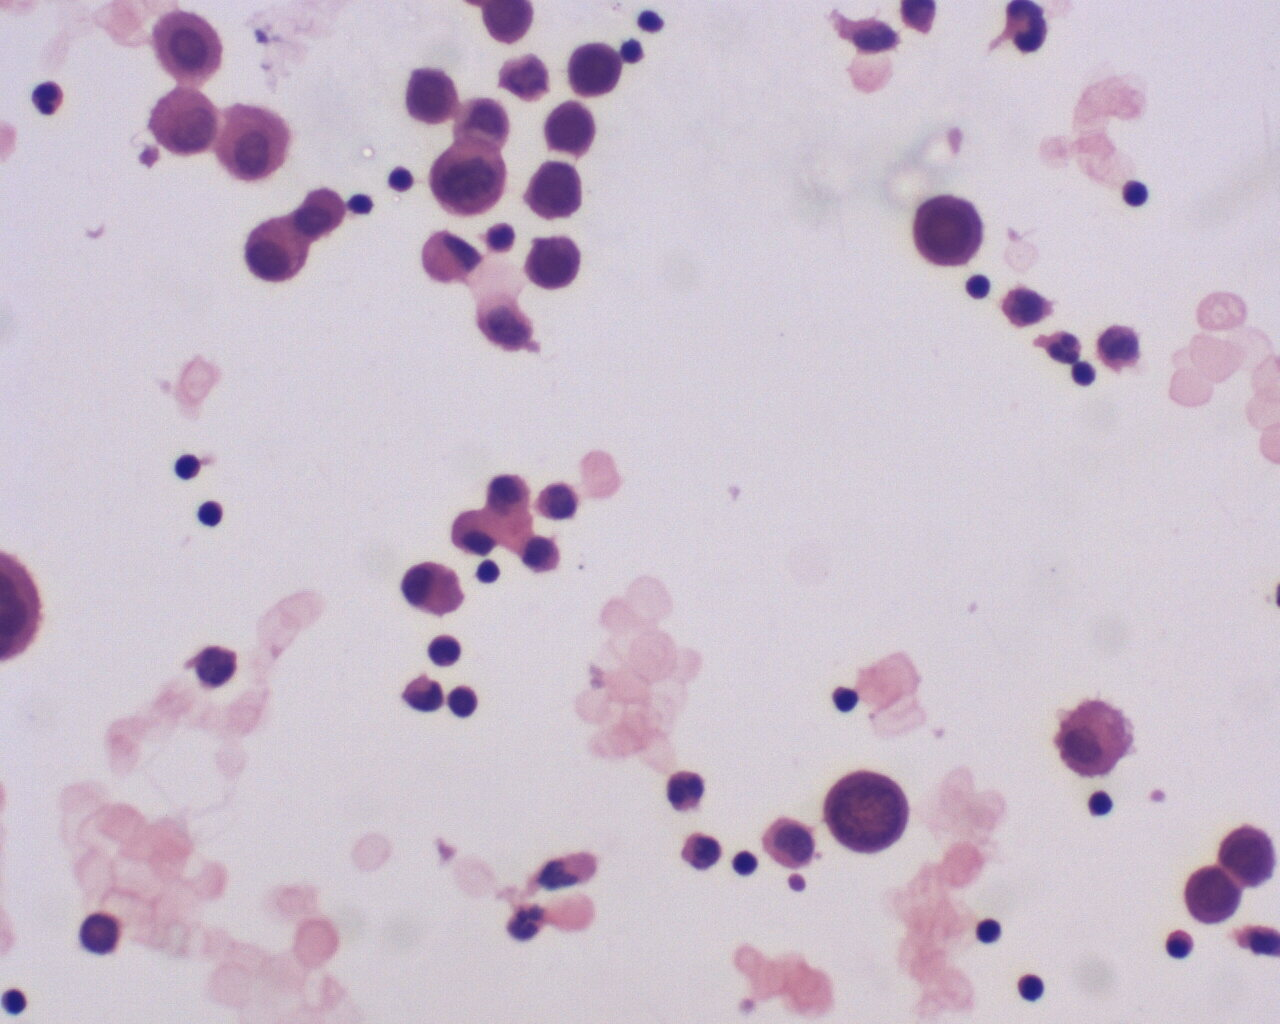ab: (827, 766, 909, 860), (428, 138, 507, 219), (911, 193, 991, 269), (523, 233, 589, 297), (523, 158, 586, 222), (1183, 859, 1244, 923), (563, 37, 624, 98), (402, 61, 460, 124), (539, 98, 597, 156)
lymph: (1011, 965, 1056, 1009), (1114, 174, 1161, 214), (729, 844, 765, 884), (973, 913, 1007, 950), (174, 451, 206, 484), (194, 499, 226, 529), (964, 274, 992, 301)
meso: (1049, 697, 1141, 787), (214, 97, 294, 184), (142, 79, 223, 162), (147, 7, 230, 85), (241, 213, 313, 285)
neutro: (1039, 324, 1084, 369), (25, 78, 71, 117)
